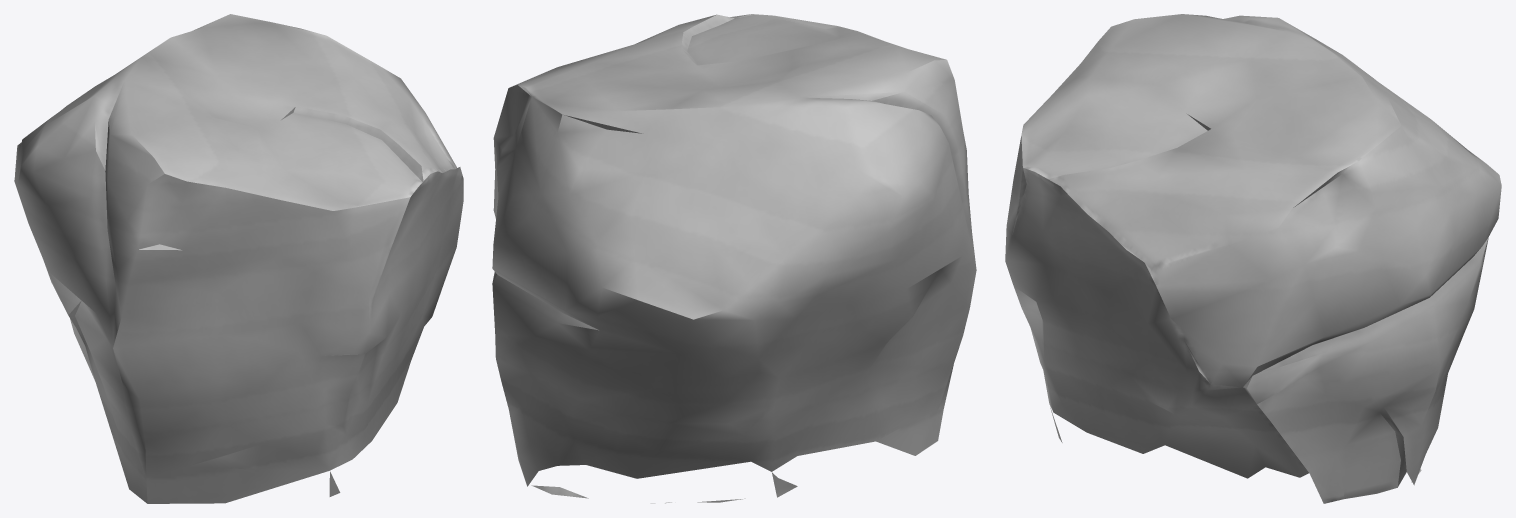
Rendered from sculpted_boulder_03.glb.
3 views of the same model, side by side, from view 1: azimuth 30°, elevation 25°; view 2: azimuth 150°, elevation 25°; view 3: azimuth 270°, elevation 25° (orthographic). The views are drawn at different scales.
Visible parts, largest first — view 1: sculpted_boulder_03; view 2: sculpted_boulder_03; view 3: sculpted_boulder_03.
Part boxes in pixels (x1,y1,x2,y2): sculpted_boulder_03: [14, 14, 463, 503]; sculpted_boulder_03: [492, 14, 976, 503]; sculpted_boulder_03: [1005, 14, 1501, 503].
Size of the model in its own units: 0.9516 by 0.8153 by 1.02.
Materials: 1 (1 with a texture image).
